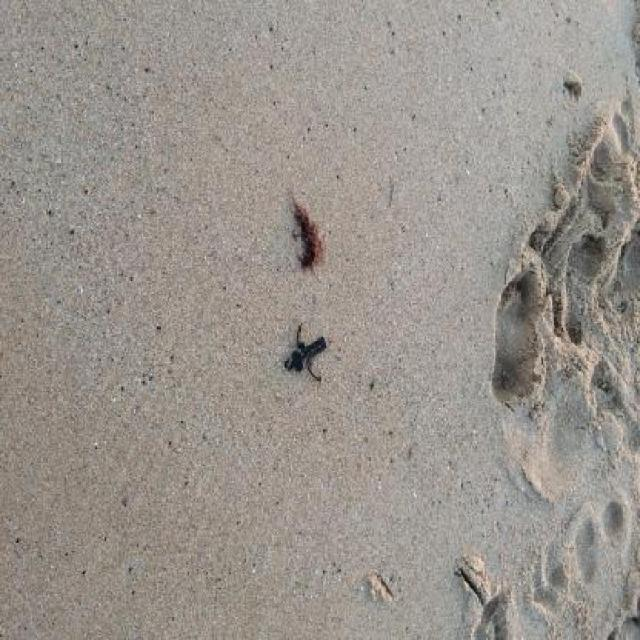plastic: (283, 322, 328, 381)
